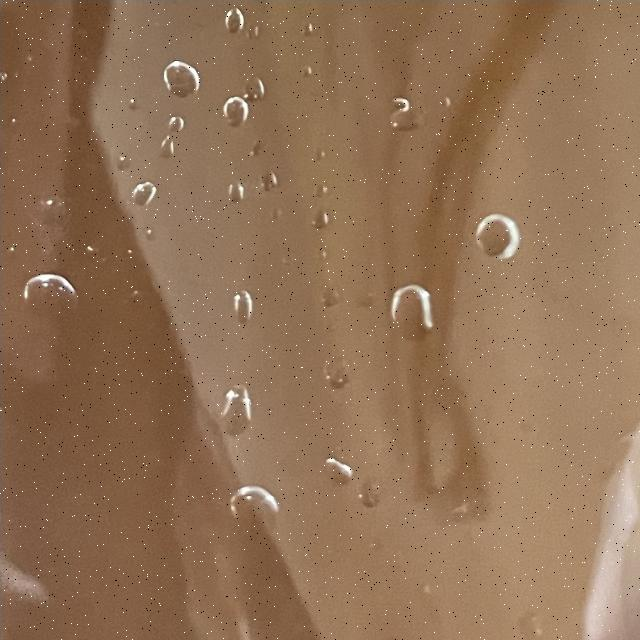raindrop: (449, 184, 529, 264), (213, 474, 294, 539), (375, 284, 447, 346), (11, 270, 84, 330), (201, 386, 268, 447), (208, 284, 266, 329), (306, 453, 363, 488), (115, 174, 160, 217), (320, 346, 357, 398), (154, 58, 206, 92), (253, 162, 299, 197), (208, 4, 241, 46), (376, 90, 415, 124), (304, 205, 340, 240), (158, 115, 192, 146), (236, 77, 268, 103), (148, 139, 174, 170), (223, 98, 248, 124), (224, 176, 247, 204)
